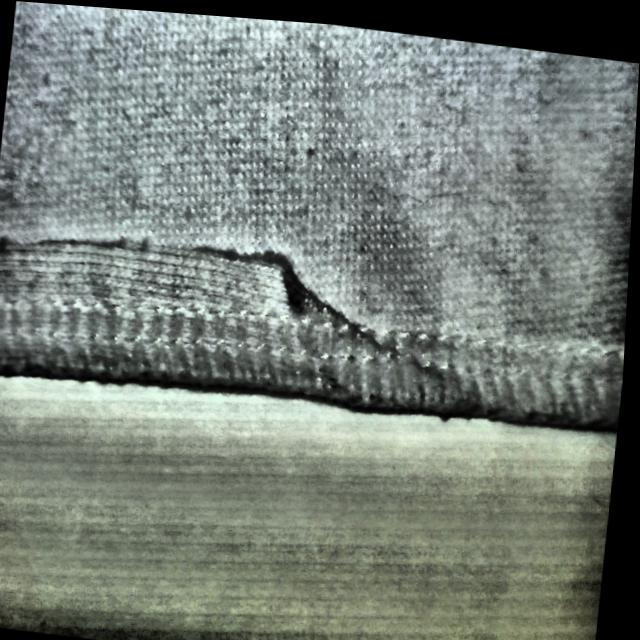seam: (0, 175, 360, 415)
